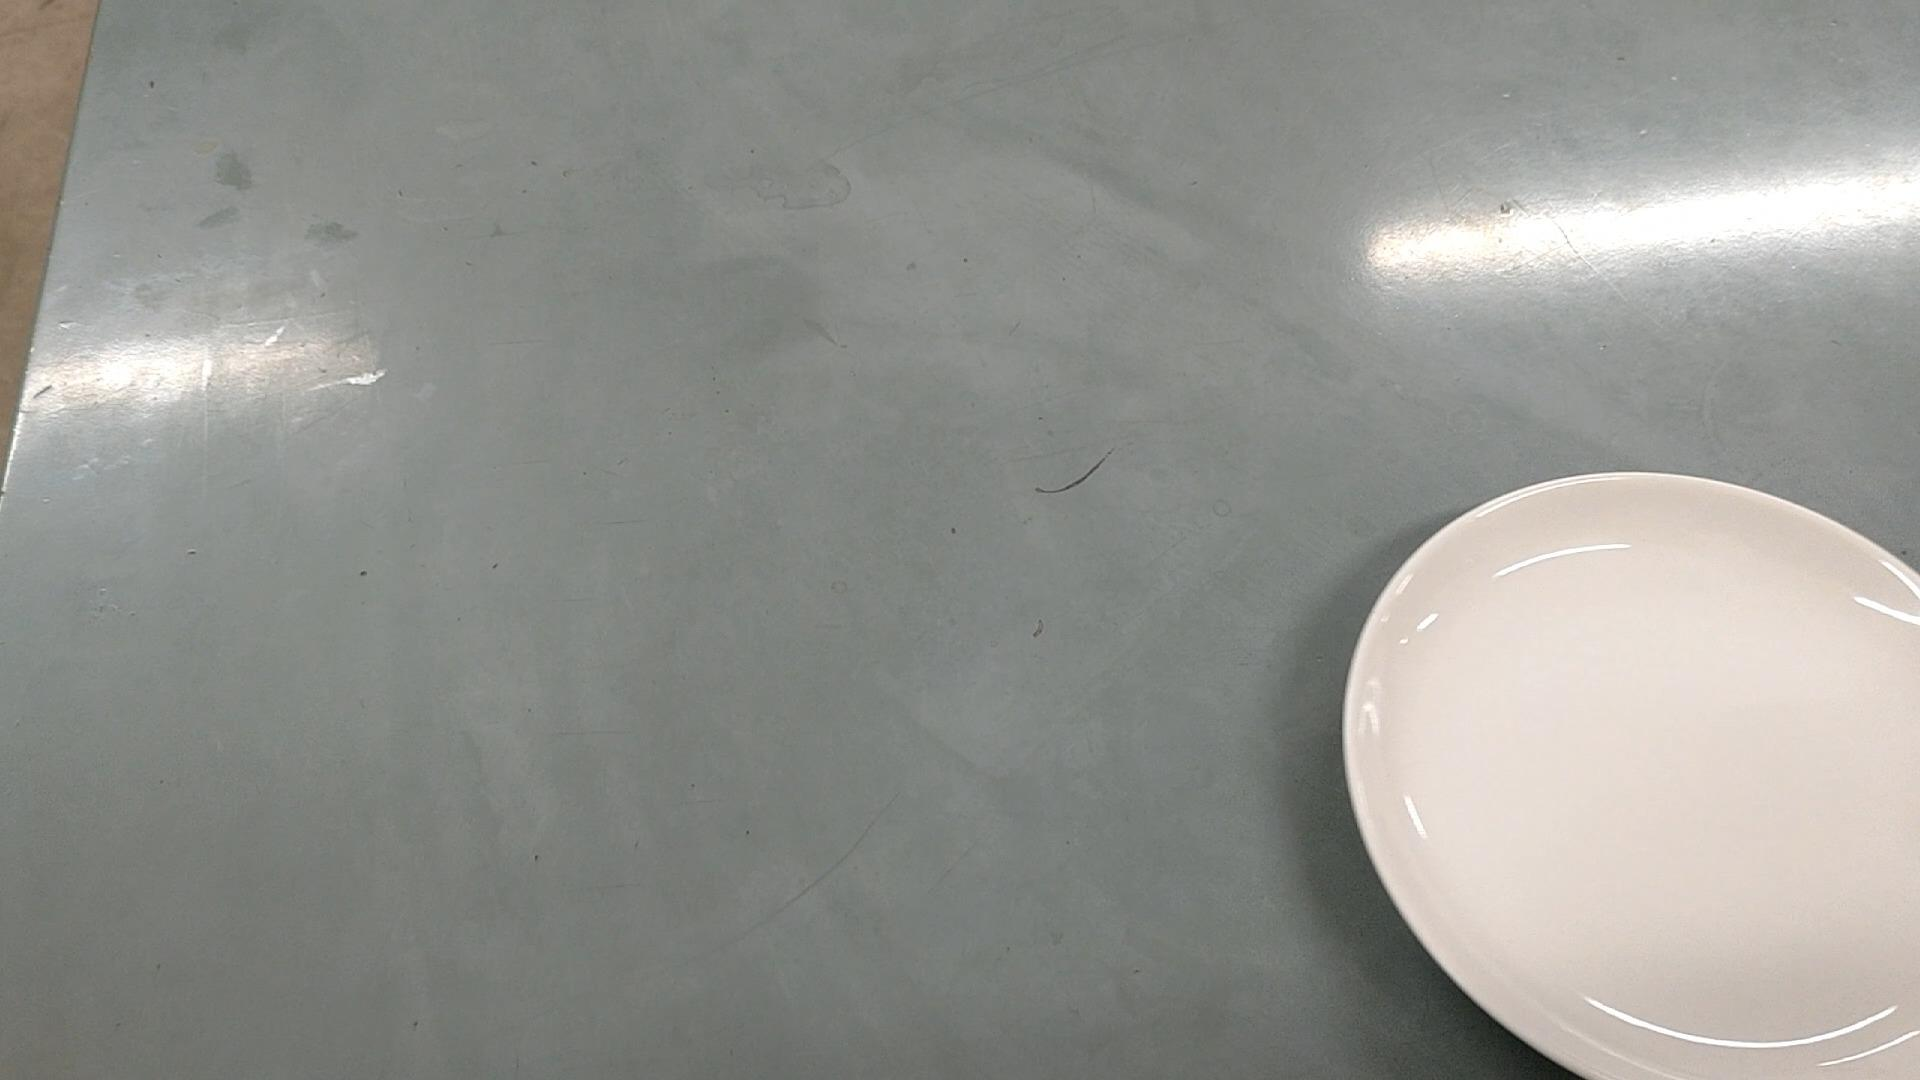plate: (1345, 473, 1920, 1080)
